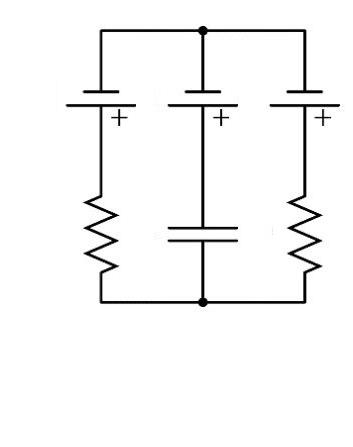resistor: (67, 181, 128, 286), (275, 175, 332, 281)
